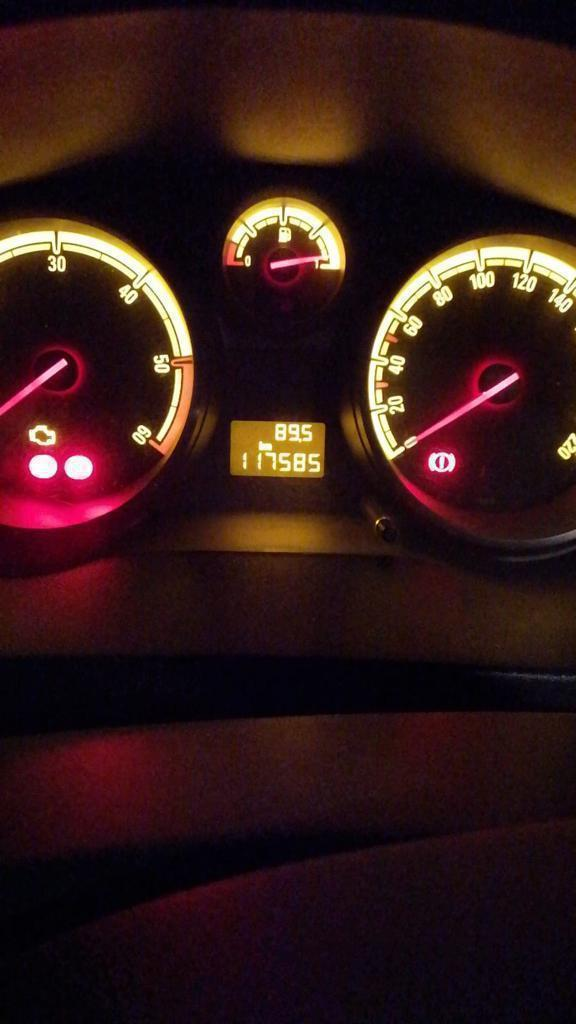,: (297, 437, 302, 443)
1: (241, 451, 247, 470), (256, 452, 262, 470)
5: (278, 452, 291, 471), (307, 453, 320, 472), (301, 424, 312, 441)
7: (264, 452, 276, 470)
8: (293, 452, 306, 472), (274, 423, 286, 441)
9: (287, 423, 299, 441)
X: (264, 442, 272, 450), (258, 440, 264, 450)
odometer: (228, 419, 326, 479)
